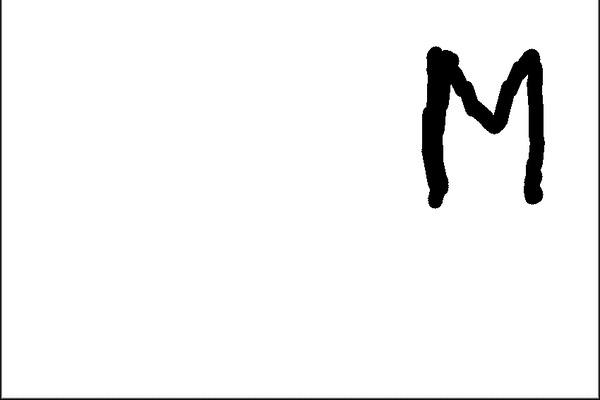M: (420, 38, 545, 208)
